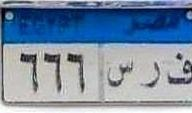6: (67, 52, 89, 97), (41, 50, 64, 93), (18, 50, 40, 93)
faa: (166, 51, 192, 88)
raa: (139, 58, 163, 92)
seen: (106, 58, 135, 92)
